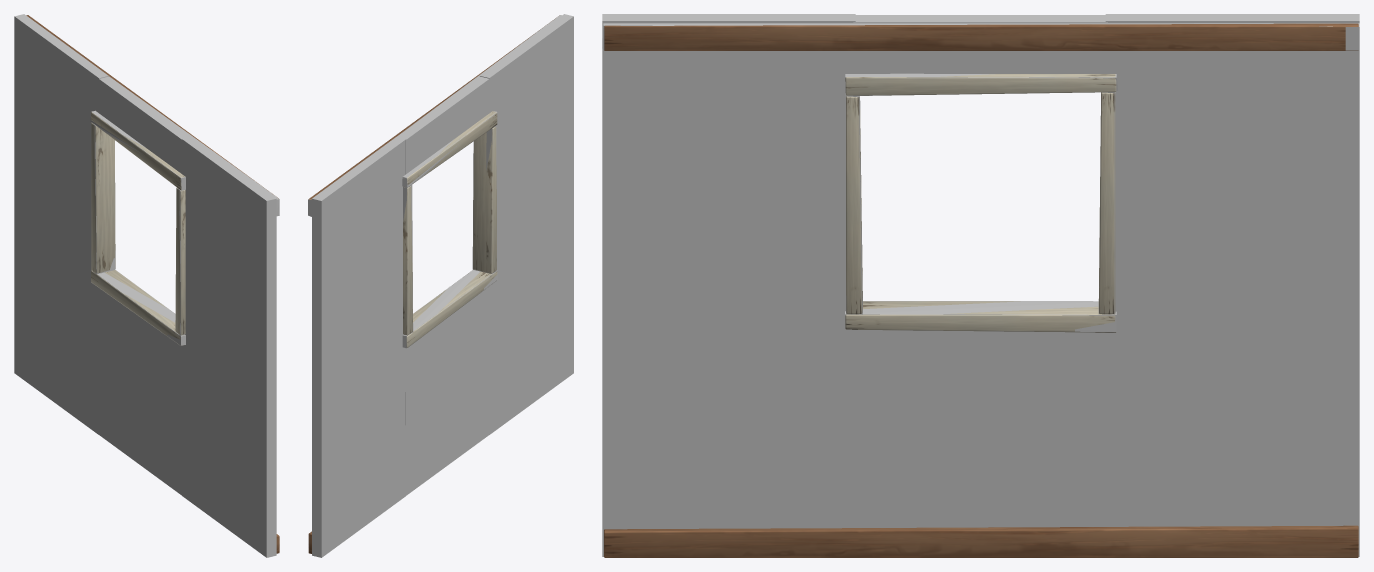
The model's file is SM_Hangar01WW_3.fbx.
The picture shows the model from 3 angles, left to right: view 1: azimuth 30°, elevation 25°; view 2: azimuth 150°, elevation 25°; view 3: azimuth 270°, elevation 25°; orthographic projection. The views are drawn at different scales.
Parts seen in each view (by area): view 1: SM_Hangar01WW_3_ConvexHulls, SM_Hangar01WW_3; view 2: SM_Hangar01WW_3_ConvexHulls, SM_Hangar01WW_3; view 3: SM_Hangar01WW_3_ConvexHulls, SM_Hangar01WW_3.
Boxes of the visible parts, left/top/right/bottom form: SM_Hangar01WW_3_ConvexHulls: left=14, top=14, right=279, bottom=557; SM_Hangar01WW_3: left=26, top=15, right=279, bottom=553; SM_Hangar01WW_3_ConvexHulls: left=308, top=14, right=573, bottom=557; SM_Hangar01WW_3: left=308, top=15, right=559, bottom=553; SM_Hangar01WW_3_ConvexHulls: left=602, top=14, right=1359, bottom=556; SM_Hangar01WW_3: left=604, top=23, right=1358, bottom=557.
Bounding box in the file's own units: 20.26 × 451 × 352.
Materials: 4 (3 with a texture image).
